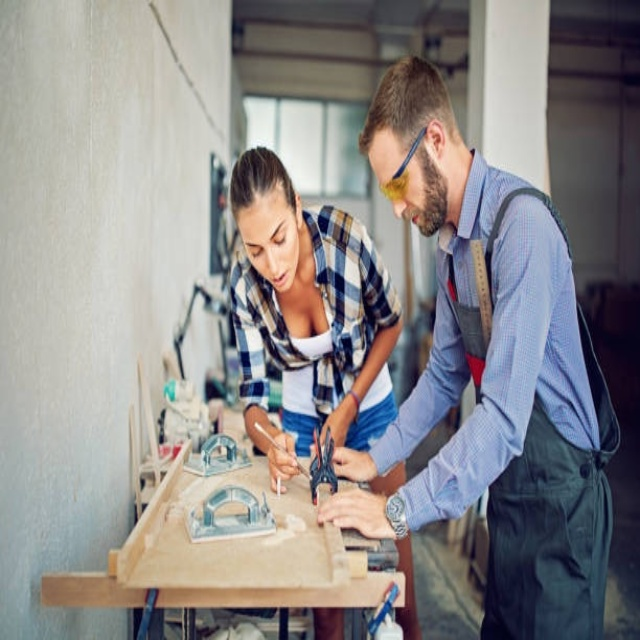Gafas: (380, 126, 428, 204)
Sin_gafas: (245, 209, 291, 265)
Sin_guantes: (316, 484, 391, 542), (325, 443, 376, 485), (267, 433, 300, 492)
Sin_mascara: (395, 204, 430, 237), (260, 270, 295, 293)
